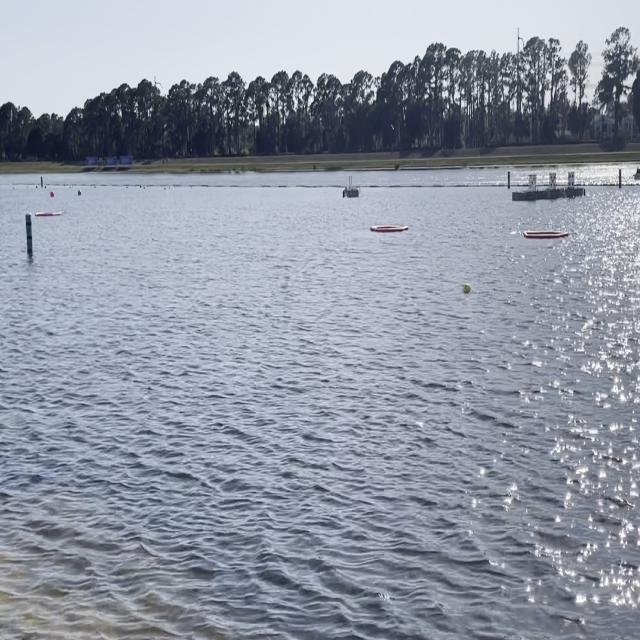buoy: (462, 282, 470, 294)
